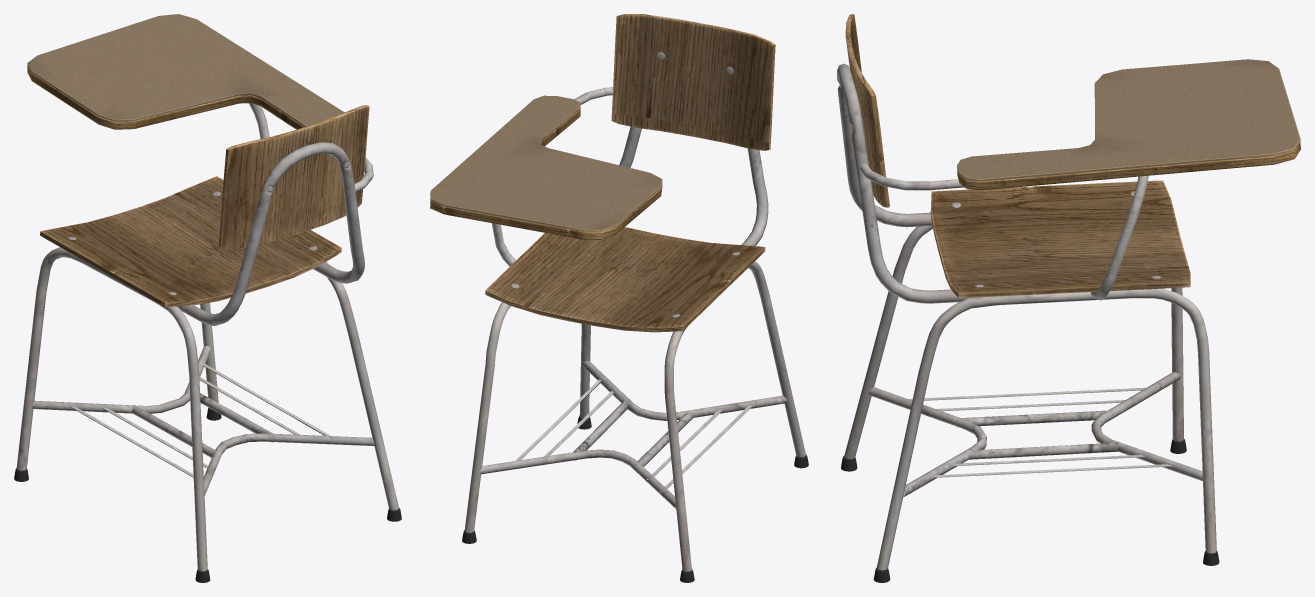
File: sc_cc_desk.glb
3 views of the same model, side by side, from view 1: azimuth 30°, elevation 25°; view 2: azimuth 150°, elevation 25°; view 3: azimuth 270°, elevation 25° (orthographic). The views are drawn at different scales.
Visible parts, largest first — view 1: chair.014__Plane.003, chair.014__Box297.002, chair.014__Cylinder813.003, chair.014__Box280.002, chair.014__Cylinder813.001, chair.014__Plane.004, chair.014__Cylinder813.000, chair.014__Box295.002, chair.014__Box299.002; view 2: chair.014__Box297.002, chair.014__Box280.002, chair.014__Plane.003, chair.014__Cylinder813.003, chair.014__Plane.004, chair.014__Cylinder813.001, chair.014__Cylinder813.000; view 3: chair.014__Box297.002, chair.014__Plane.003, chair.014__Cylinder813.003, chair.014__Cylinder813.001, chair.014__Plane.004, chair.014__Box280.002, chair.014__Cylinder813.000, chair.014__Box295.002, chair.014__Box299.002, chair.014__Box296.002, chair.014__Box298.002.
Part boxes in pixels (x1=…): chair.014__Plane.003: x1=27, y1=14, x2=344, y2=126; chair.014__Box297.002: x1=40, y1=176, x2=341, y2=306; chair.014__Cylinder813.003: x1=16, y1=247, x2=399, y2=571; chair.014__Box280.002: x1=218, y1=105, x2=369, y2=248; chair.014__Cylinder813.001: x1=178, y1=142, x2=364, y2=326; chair.014__Plane.004: x1=27, y1=65, x2=304, y2=129; chair.014__Cylinder813.000: x1=248, y1=103, x2=373, y2=191; chair.014__Box295.002: x1=203, y1=363, x2=330, y2=435; chair.014__Box299.002: x1=70, y1=406, x2=193, y2=477; chair.014__Box297.002: x1=485, y1=227, x2=765, y2=332; chair.014__Box280.002: x1=611, y1=14, x2=775, y2=150; chair.014__Plane.003: x1=430, y1=95, x2=662, y2=231; chair.014__Cylinder813.003: x1=464, y1=261, x2=805, y2=571; chair.014__Plane.004: x1=430, y1=108, x2=662, y2=239; chair.014__Cylinder813.001: x1=619, y1=126, x2=768, y2=245; chair.014__Cylinder813.000: x1=491, y1=87, x2=612, y2=266; chair.014__Box297.002: x1=930, y1=180, x2=1190, y2=297; chair.014__Plane.003: x1=957, y1=59, x2=1300, y2=181; chair.014__Cylinder813.003: x1=844, y1=226, x2=1216, y2=570; chair.014__Cylinder813.001: x1=837, y1=63, x2=970, y2=303; chair.014__Plane.004: x1=957, y1=96, x2=1300, y2=190; chair.014__Box280.002: x1=845, y1=14, x2=889, y2=207; chair.014__Cylinder813.000: x1=859, y1=164, x2=1148, y2=300; chair.014__Box295.002: x1=932, y1=464, x2=1171, y2=477; chair.014__Box299.002: x1=908, y1=387, x2=1157, y2=400; chair.014__Box296.002: x1=952, y1=454, x2=1145, y2=466; chair.014__Box298.002: x1=936, y1=400, x2=1136, y2=411.
Size of the model in its own units: 0.5638 by 0.9126 by 0.8128.
Materials: 4 (3 with a texture image).
